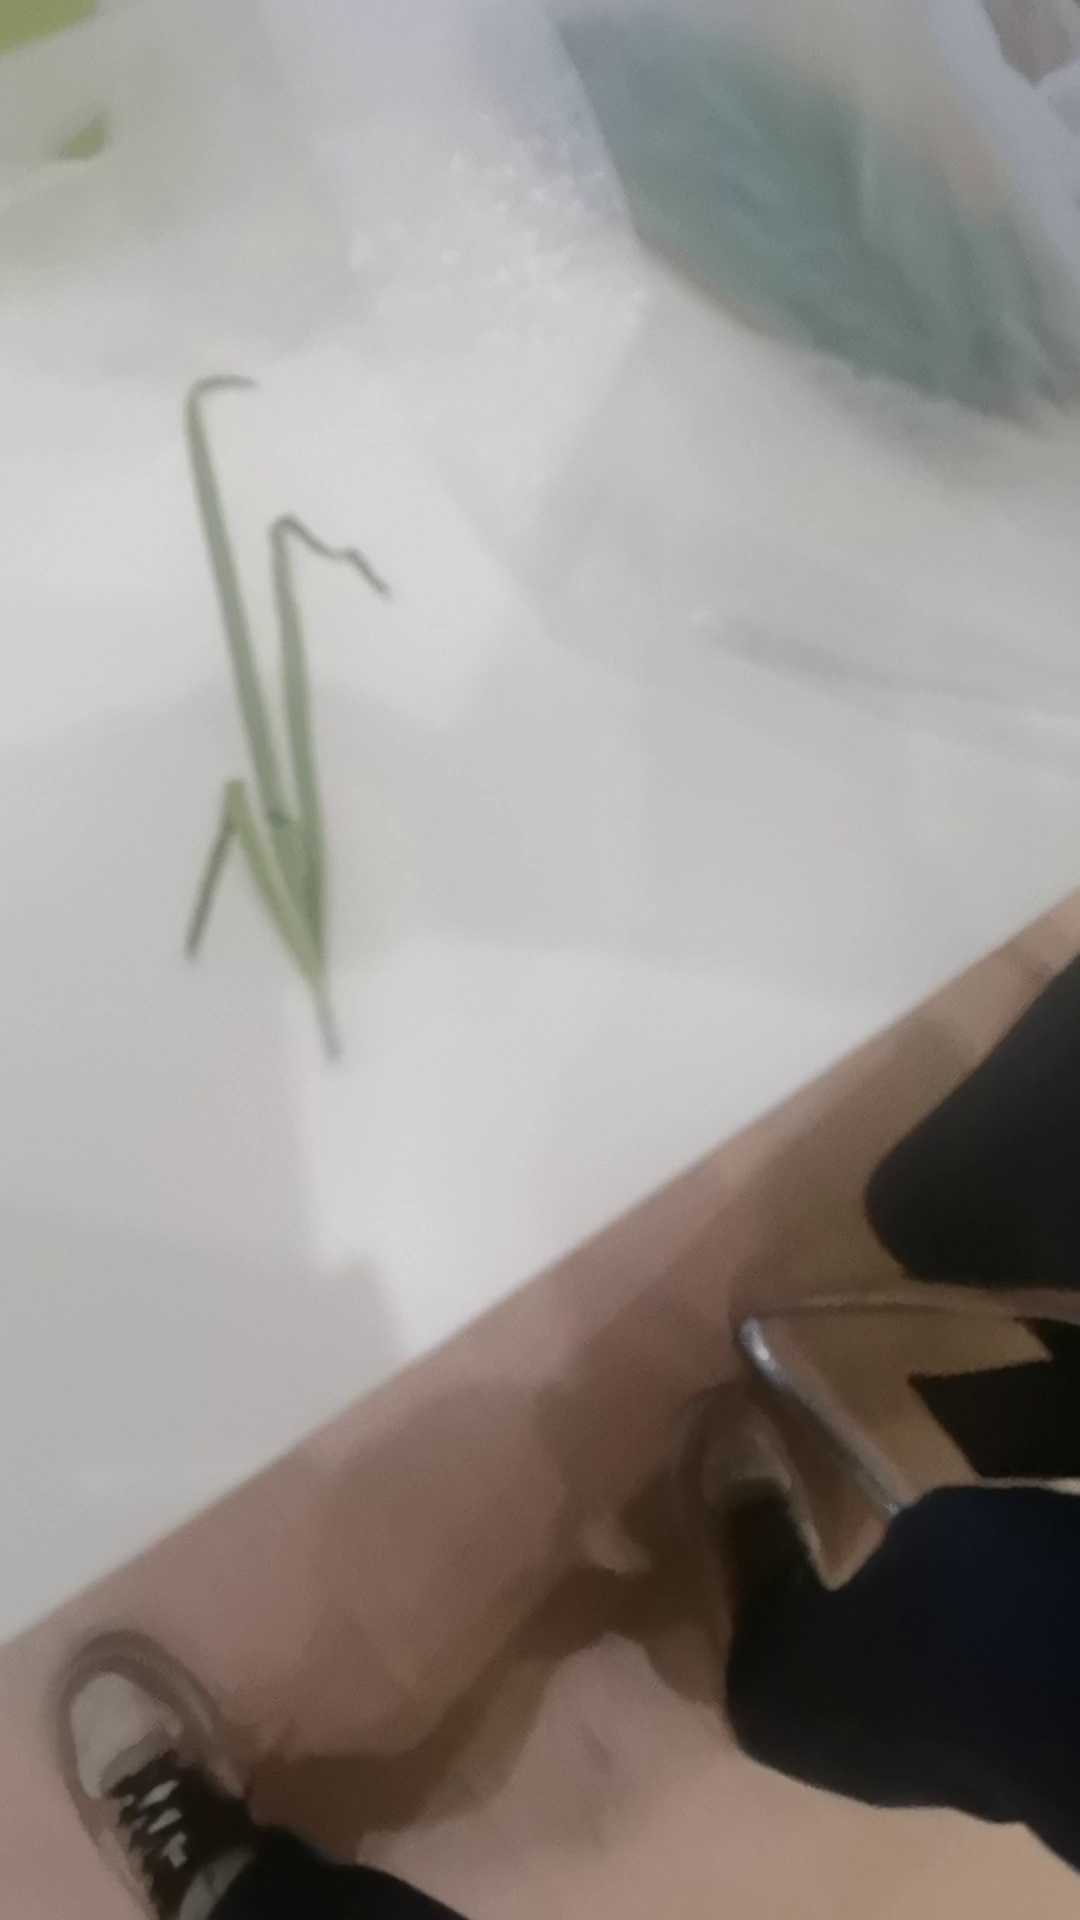chives: (153, 360, 415, 1076)
